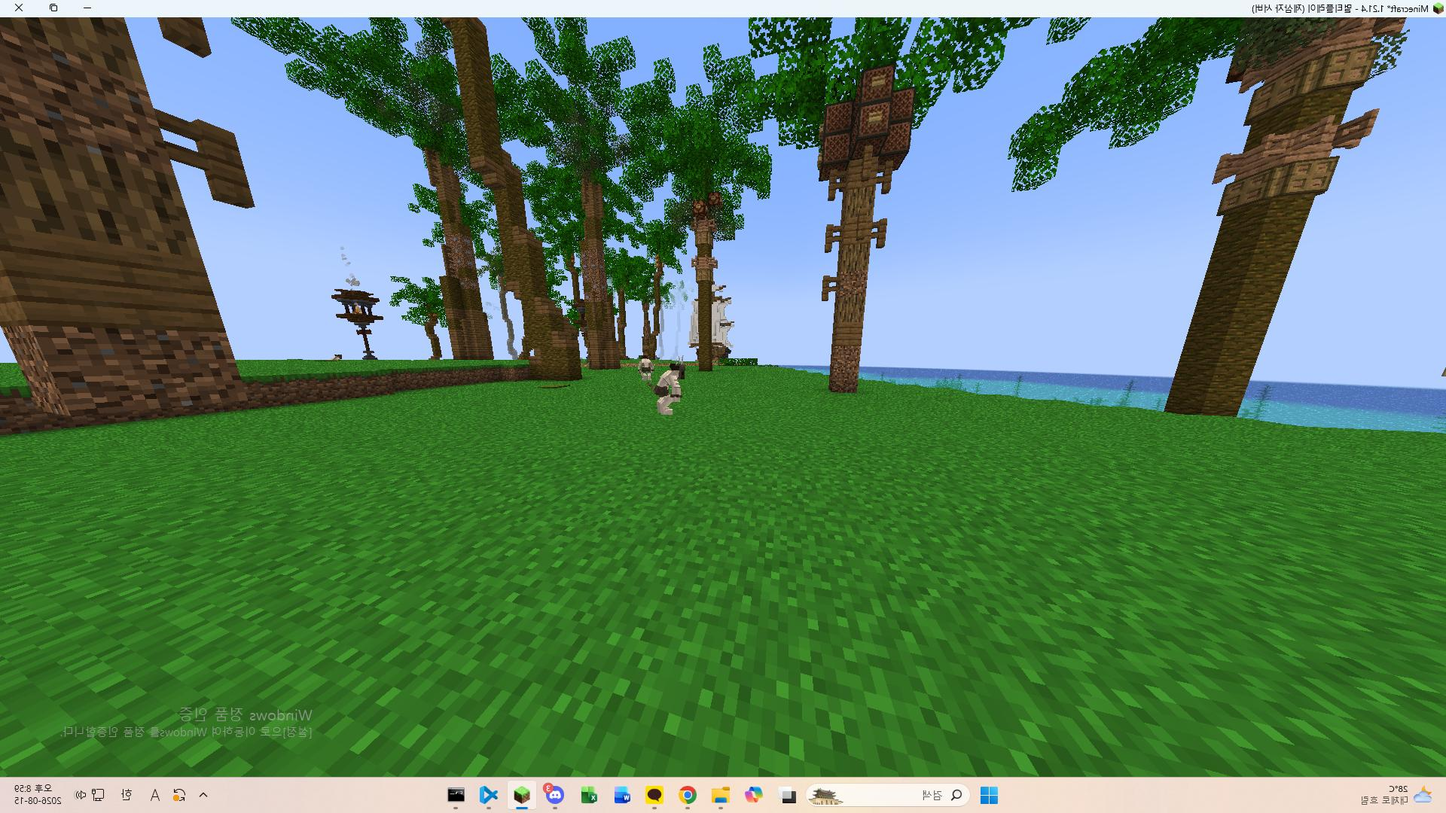bow_indian: (632, 354, 696, 424)
